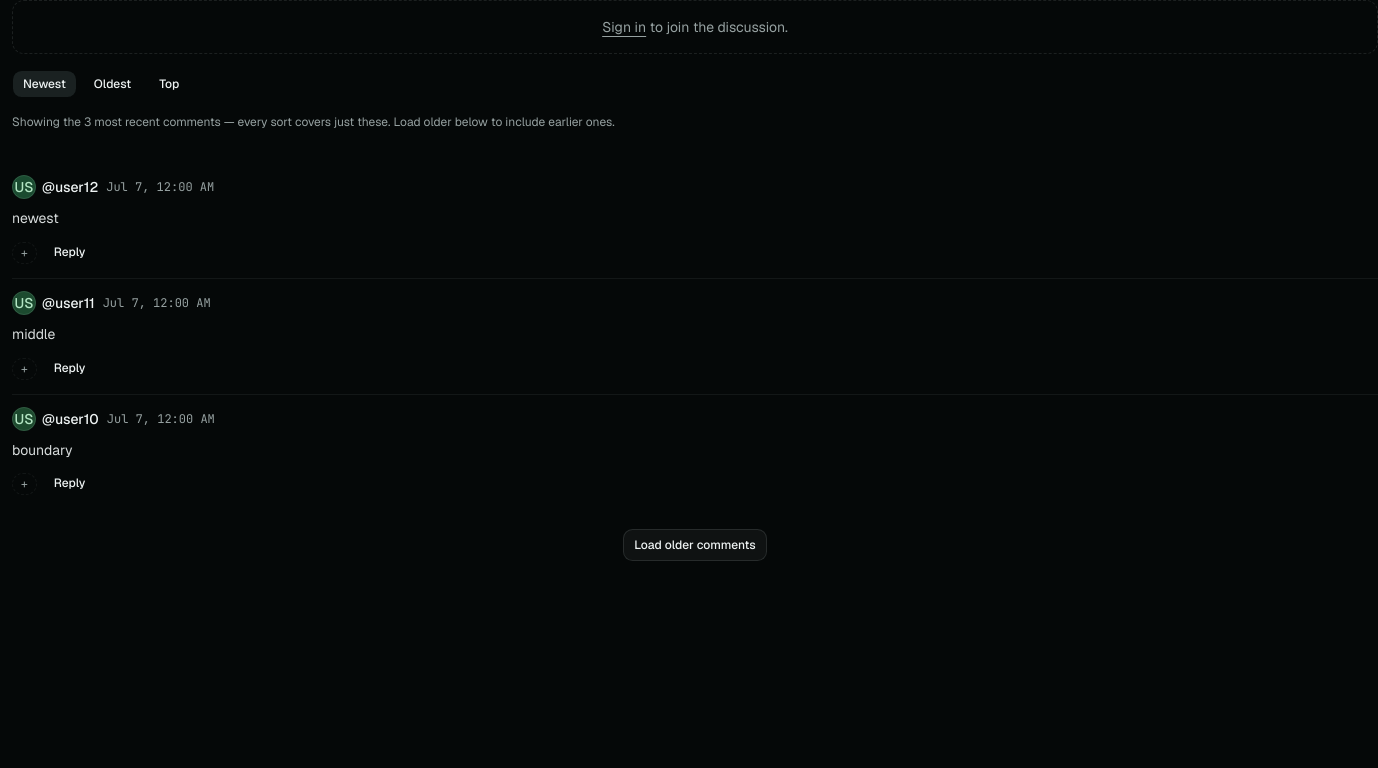
ThreadView live layer › loads older comments behind a Load older button (keyset paging)
Expected: the text "newest" is shown, x1=12 y1=209 x2=59 y2=227
Expected: the text "older one" is not shown
Click the button "Load older comments" at (695, 545), box x1=623 y1=529 x2=767 y2=561
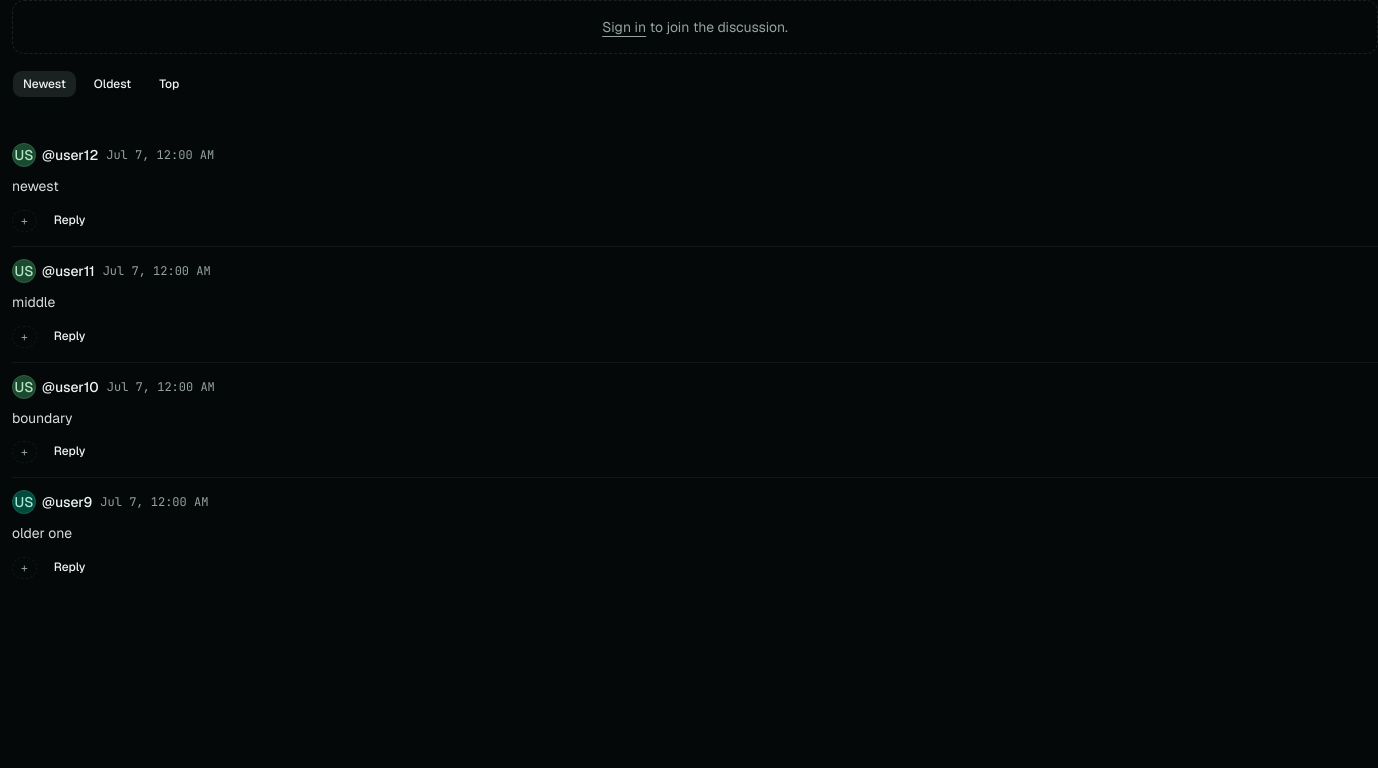
Now the text "older one" is shown, box x1=12 y1=524 x2=72 y2=542
Now the button "Load older comments" is gone
